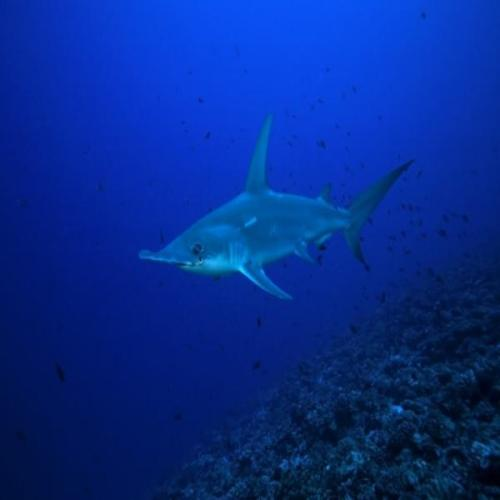shark-endangered: (138, 114, 414, 306)
